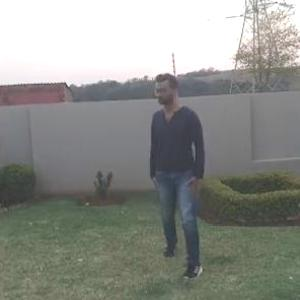follow: (151, 65, 211, 280)
